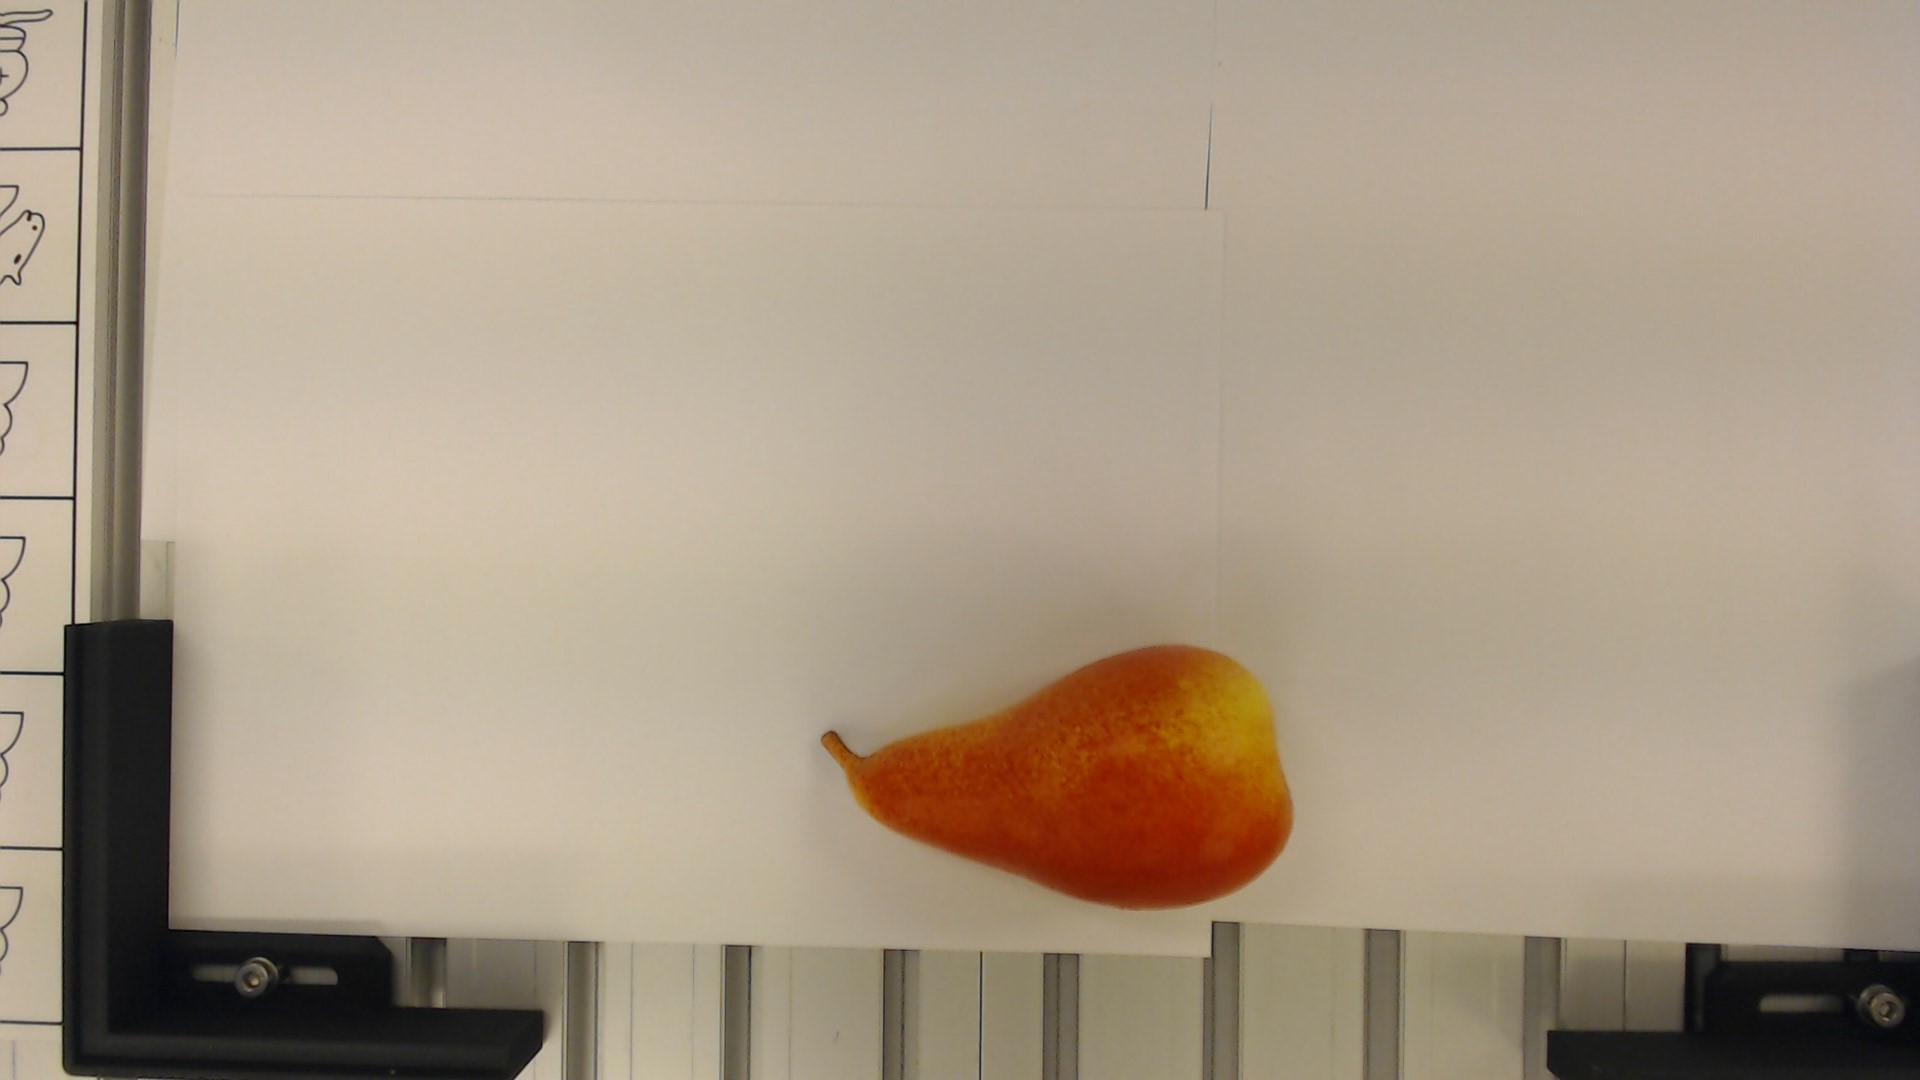Pear: (816, 641, 1308, 910)
